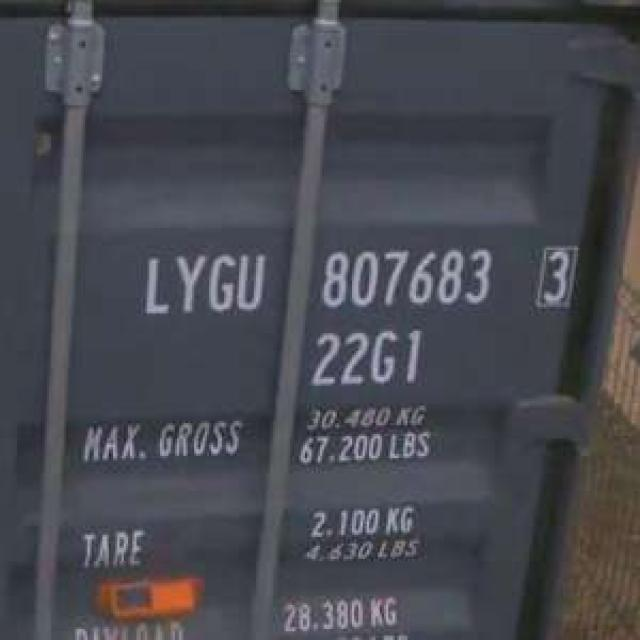dv: (529, 239, 578, 311)
owner: (132, 243, 269, 322)
serial: (312, 239, 497, 316)
size: (305, 324, 427, 392)
